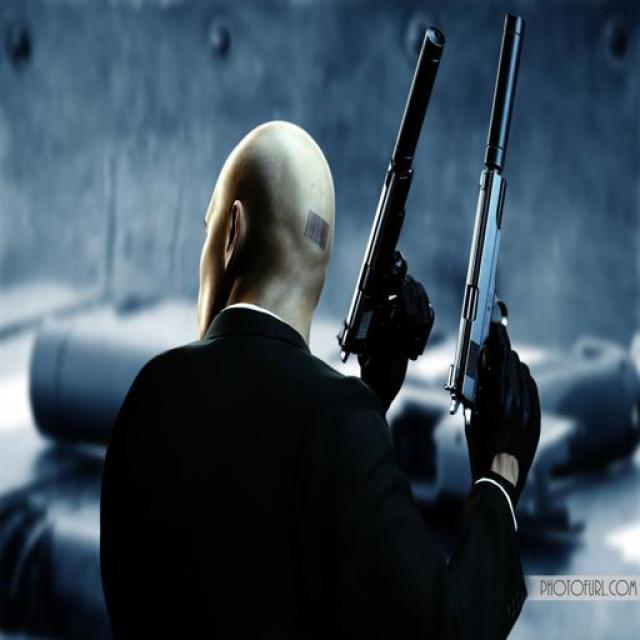pistol: (442, 10, 540, 434), (333, 24, 454, 364)
